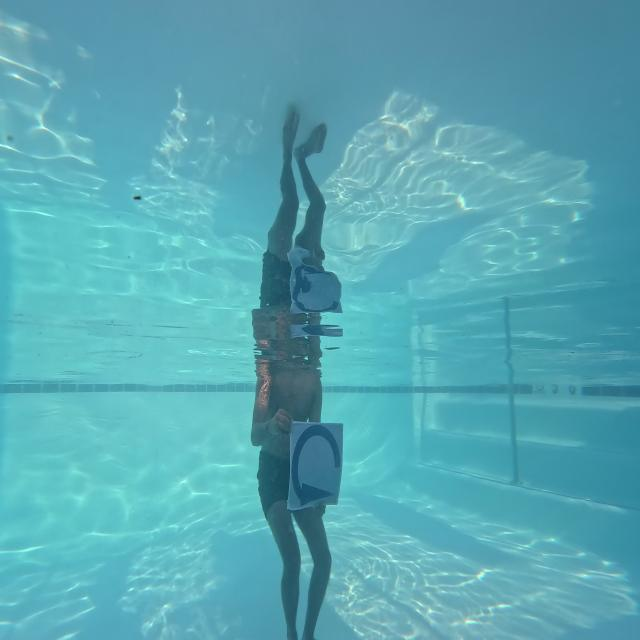blue_side: (289, 416, 345, 508)
